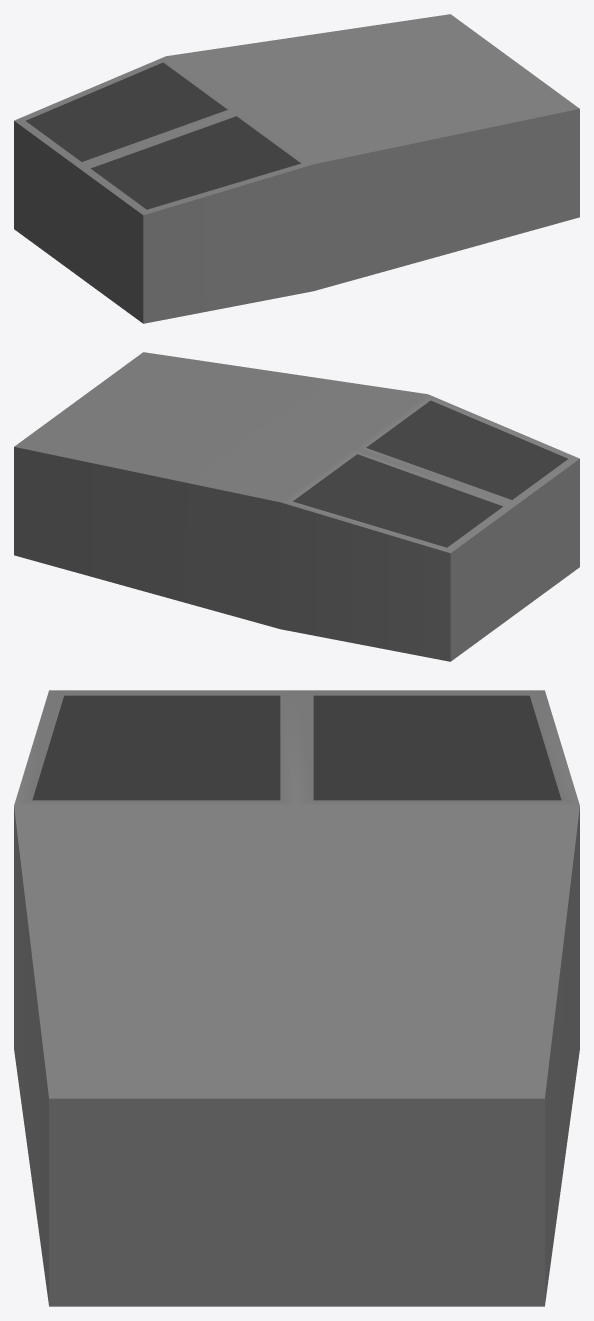
The model's file is Mouse.fbx.
The picture shows the model from 3 angles, top to bottom: view 1: azimuth 30°, elevation 25°; view 2: azimuth 150°, elevation 25°; view 3: azimuth 270°, elevation 25°; orthographic projection. The views are drawn at different scales.
Visible parts, largest first — view 1: Mouse; view 2: Mouse; view 3: Mouse.
Part boxes in pixels (x1,y1,x2,y2): Mouse: (14, 14, 579, 323); Mouse: (14, 352, 579, 661); Mouse: (14, 690, 579, 1306).
Bounding box in the file's own units: 11.6 × 3.22 × 6.8.
Materials: 1 (1 with a texture image).
